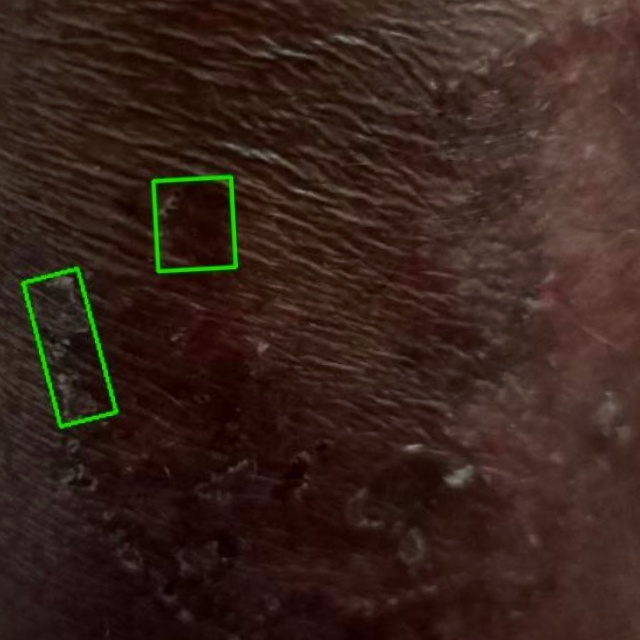Tinea Corporis: (22, 269, 115, 427), (153, 176, 236, 271)
